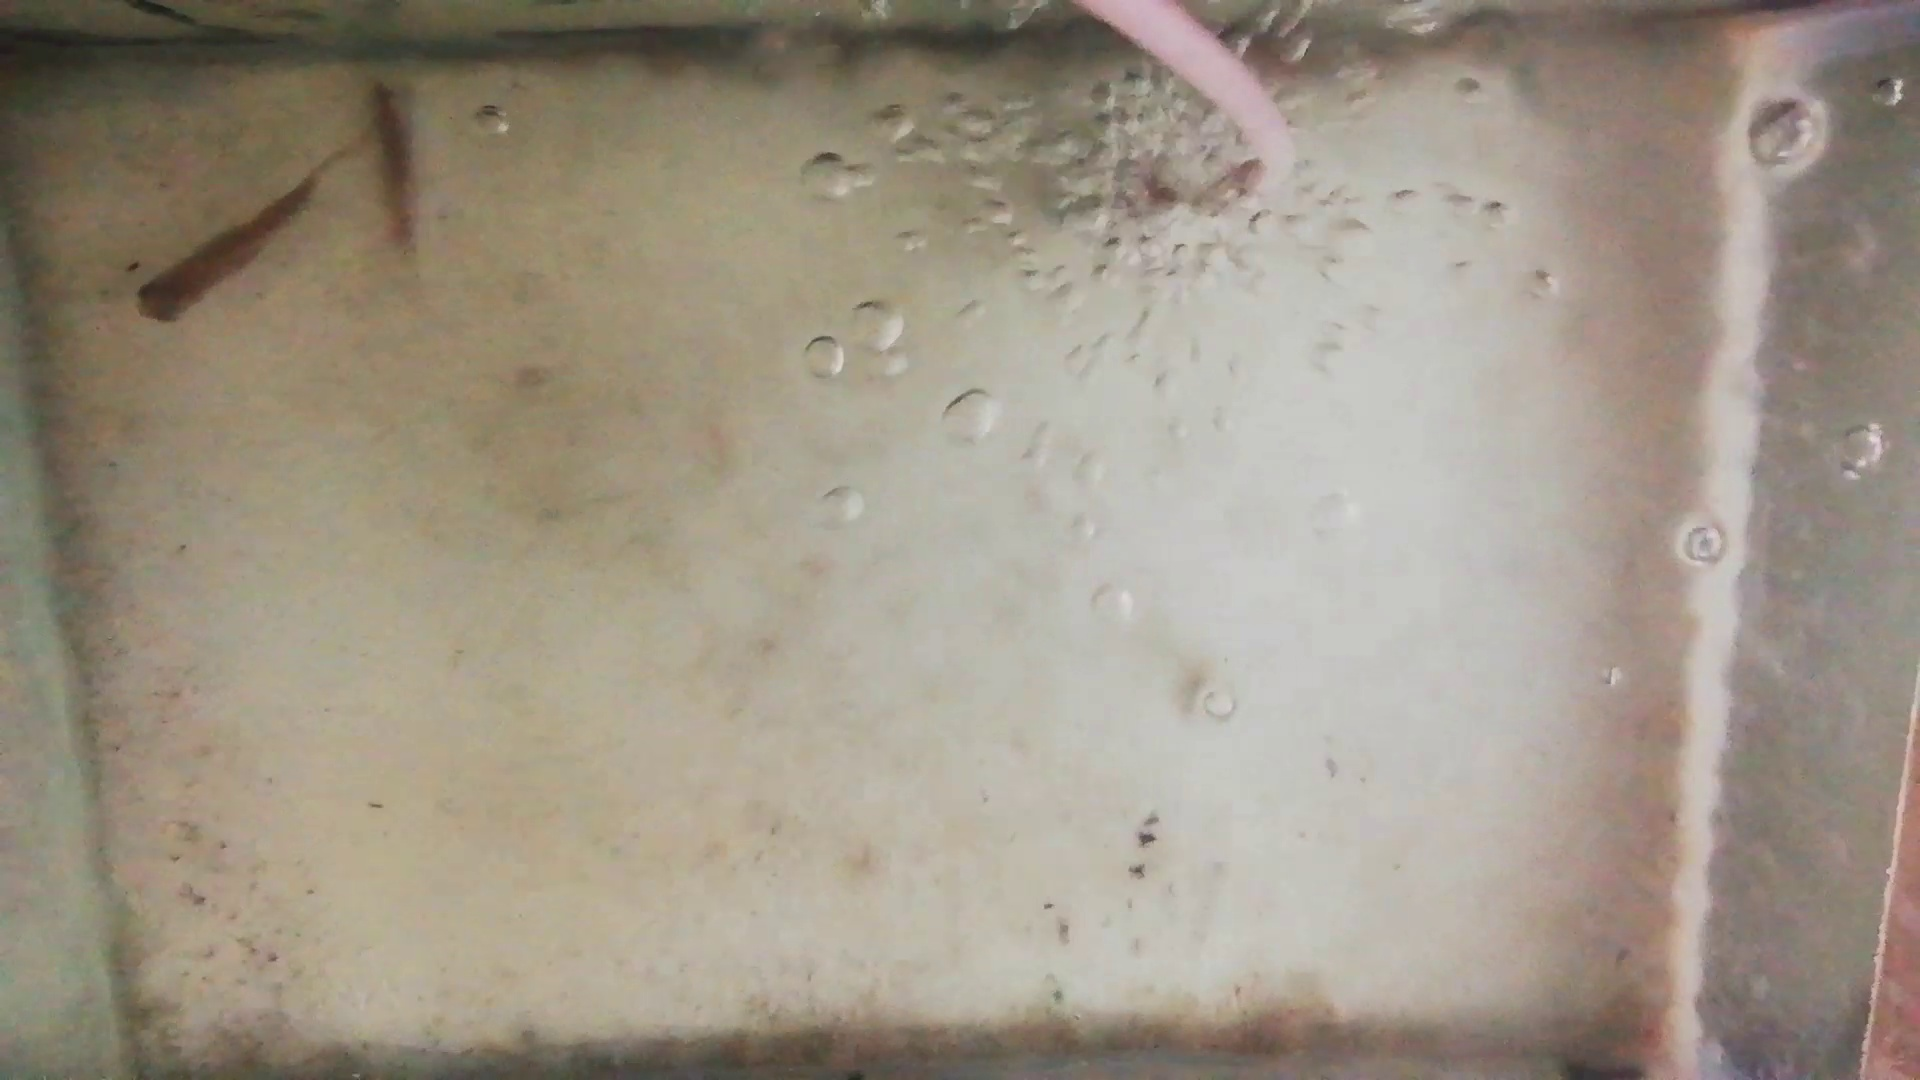fish: (135, 166, 324, 322), (361, 75, 417, 248)
